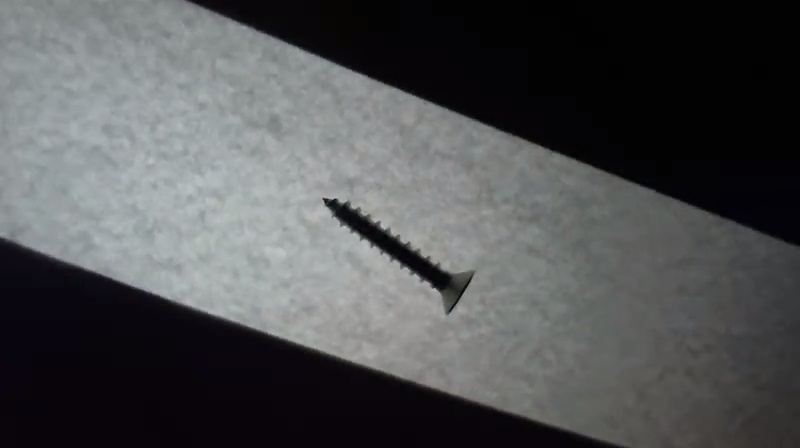S001: (316, 196, 475, 316)
